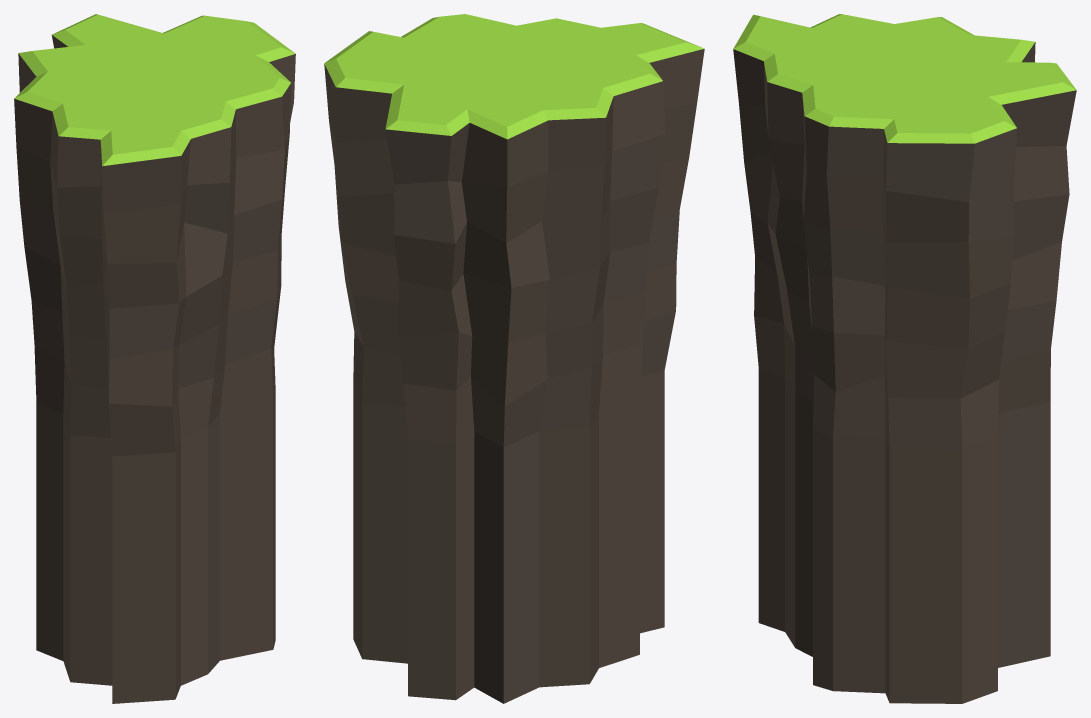
The model's file is Cliff1.fbx.
3 views of the same model, side by side, from view 1: azimuth 30°, elevation 25°; view 2: azimuth 150°, elevation 25°; view 3: azimuth 270°, elevation 25° (orthographic). The views are drawn at different scales.
Parts seen in each view (by area): view 1: Cliff1; view 2: Cliff1; view 3: Cliff1.
Part boxes in pixels (x1=…): Cliff1: x1=14, y1=14, x2=295, y2=703; Cliff1: x1=324, y1=14, x2=704, y2=703; Cliff1: x1=733, y1=14, x2=1076, y2=703.
Size of the model in its own units: 12.21 by 24.88 by 13.42.
